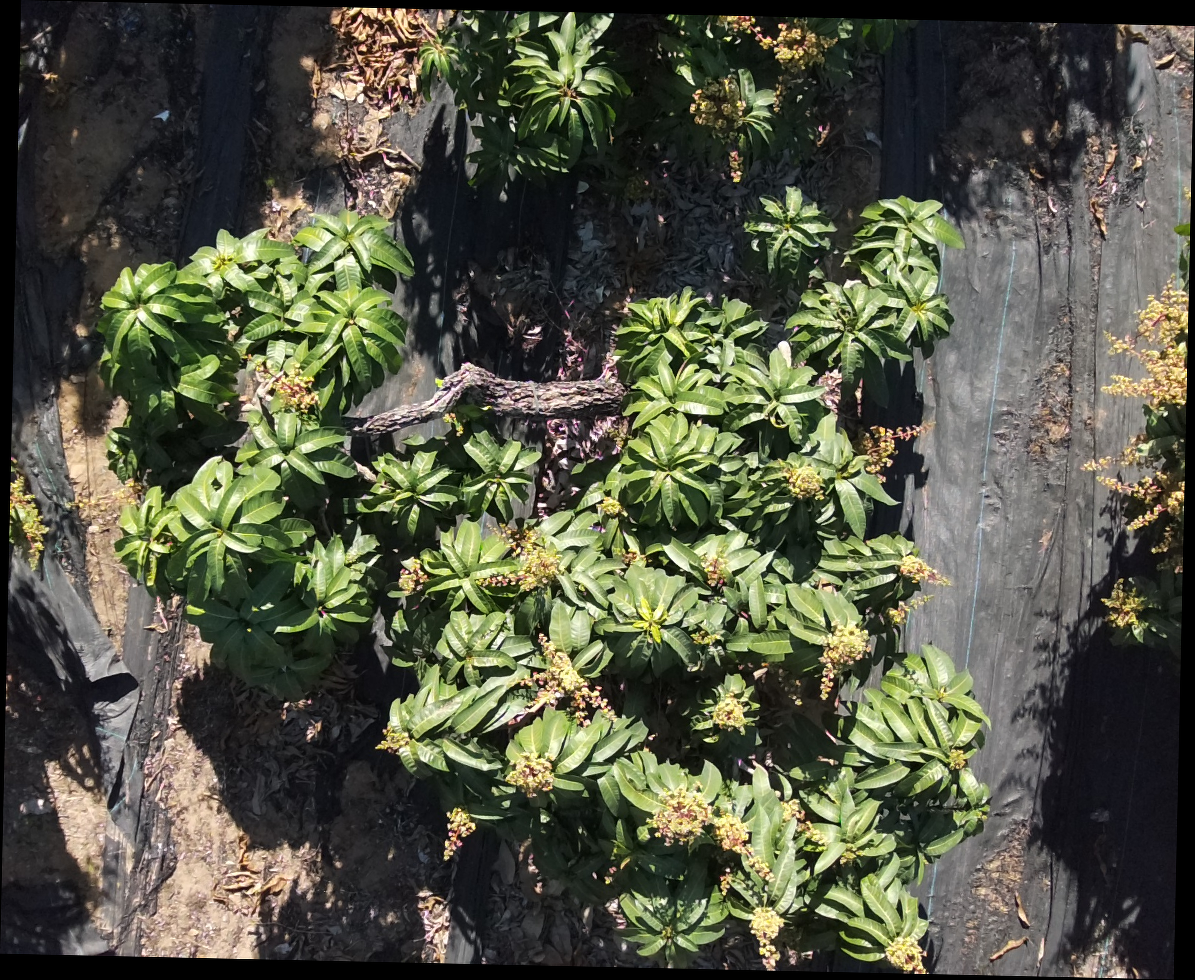flowers: (1082, 434, 1184, 572), (646, 786, 772, 879), (1103, 281, 1187, 409), (521, 634, 616, 726), (480, 526, 561, 592), (860, 422, 932, 482), (245, 358, 320, 414), (761, 20, 836, 73), (820, 622, 869, 700), (9, 474, 47, 570), (689, 75, 745, 140), (709, 674, 757, 732), (781, 798, 827, 850), (505, 752, 555, 798), (1101, 578, 1146, 629), (749, 906, 784, 970), (442, 806, 476, 861), (884, 936, 928, 973), (899, 554, 950, 585), (782, 464, 825, 500), (886, 594, 933, 626), (397, 558, 428, 595), (375, 725, 410, 754), (703, 554, 730, 588), (716, 15, 760, 34), (598, 496, 627, 517), (947, 747, 970, 771), (728, 150, 744, 183), (719, 868, 732, 896), (854, 380, 863, 417)
